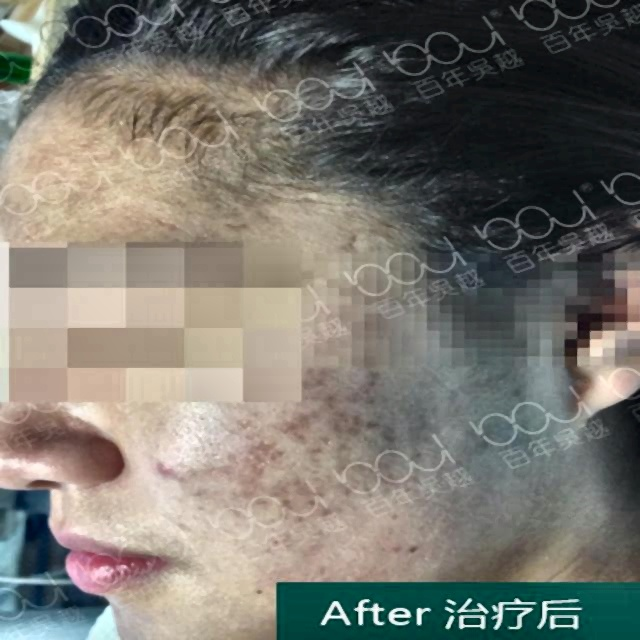comedone: (152, 450, 204, 486)
